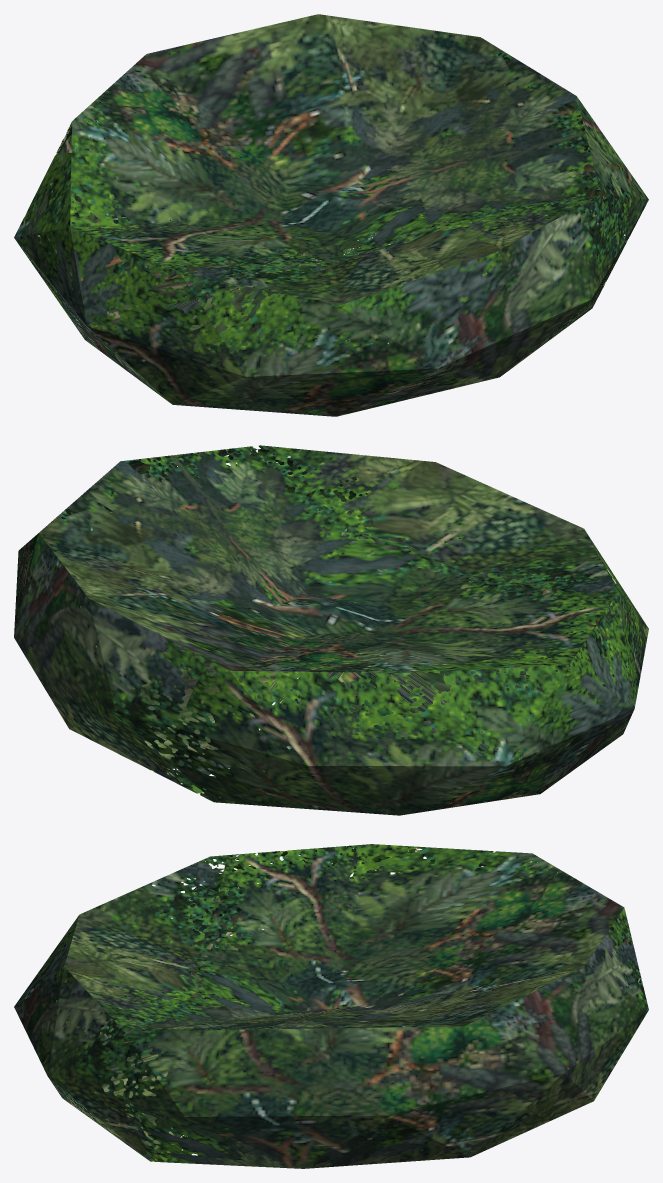
File: MTree_4_Bch_2.gltf
3 views of the same model, one above another, from view 1: azimuth 30°, elevation 25°; view 2: azimuth 150°, elevation 25°; view 3: azimuth 270°, elevation 25° (orthographic). The views are drawn at different scales.
Parts seen in each view (by area): view 1: MTree_4_Bch_2; view 2: MTree_4_Bch_2; view 3: MTree_4_Bch_2.
Part boxes in pixels (x1,y1,x2,y2): MTree_4_Bch_2: (14, 14, 648, 416); MTree_4_Bch_2: (14, 445, 648, 815); MTree_4_Bch_2: (14, 844, 648, 1168).
Bounding box in the file's own units: 8.44 × 2.72 × 8.38.
1 material, 1 textured.
